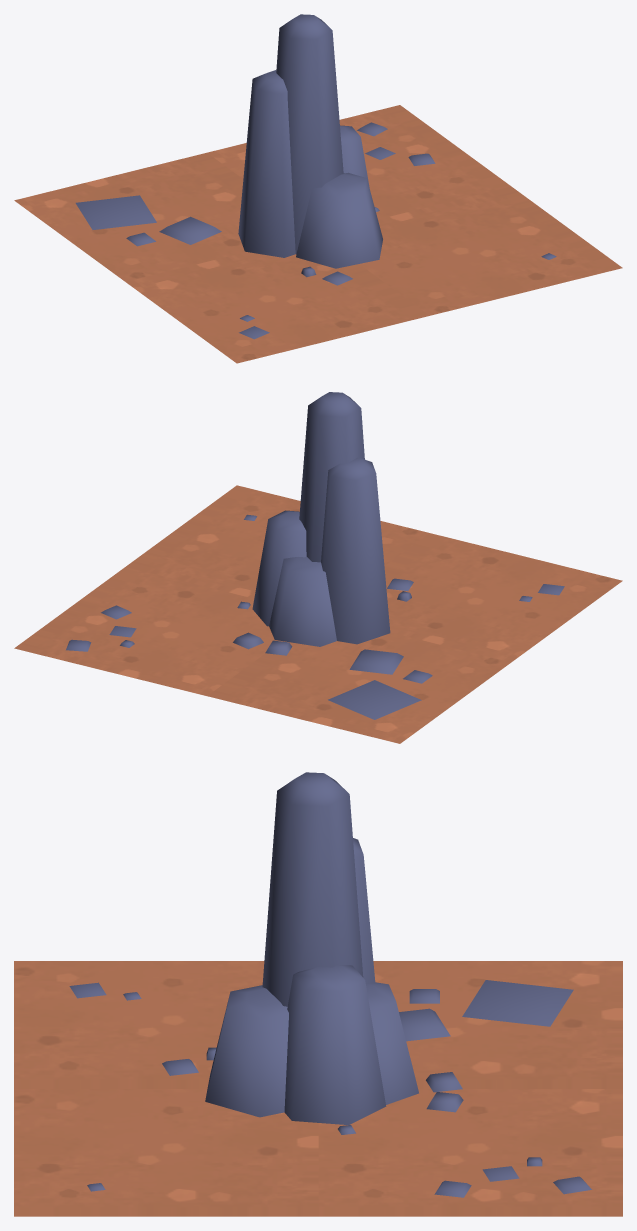
Rendered from iron ore.glb.
The picture shows the model from 3 angles, top to bottom: view 1: azimuth 30°, elevation 25°; view 2: azimuth 150°, elevation 25°; view 3: azimuth 270°, elevation 25°; orthographic projection. The views are drawn at different scales.
Visible parts, largest first — view 1: template-floor-big_1; view 2: template-floor-big_1; view 3: template-floor-big_1.
Boxes of the visible parts, x1=… form: template-floor-big_1: x1=14, y1=14, x2=622, y2=363; template-floor-big_1: x1=14, y1=392, x2=622, y2=743; template-floor-big_1: x1=14, y1=772, x2=622, y2=1216.
Size of the model in its own units: 8 by 4.36 by 8.
1 material, 1 textured.
